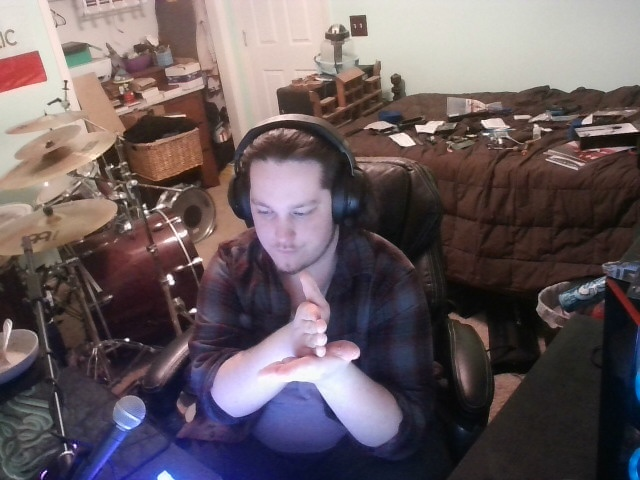stop: (257, 271, 379, 400)
